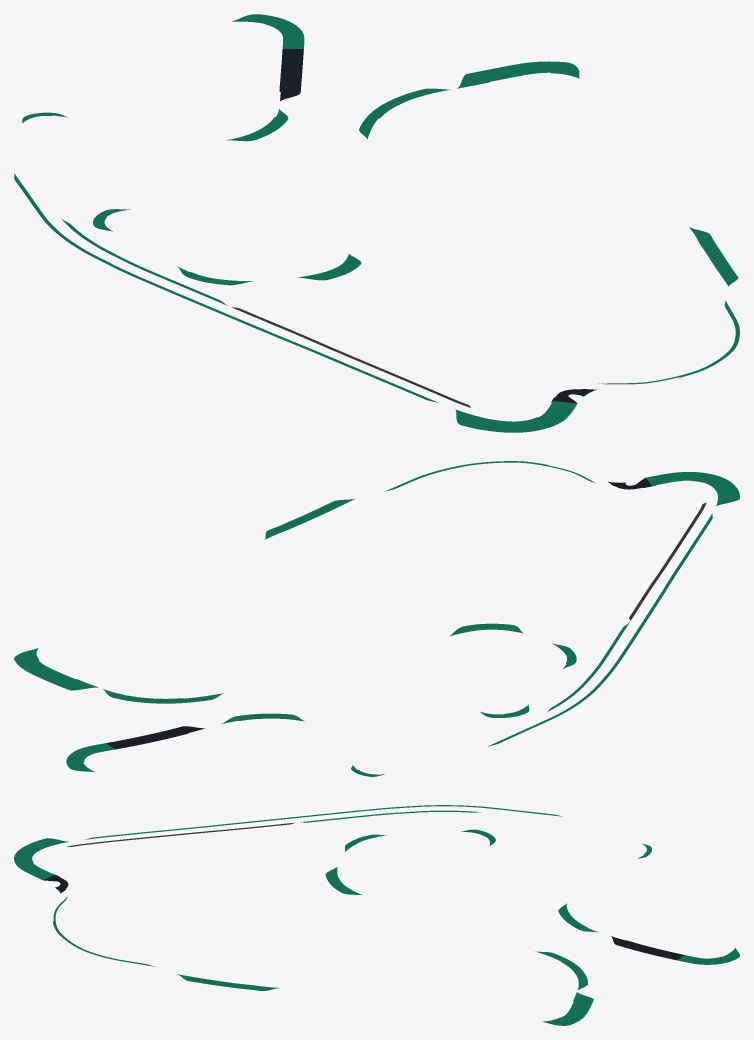
The model's file is runoff_paint.glb.
3 renders of one model, top to bottom at view 1: azimuth 30°, elevation 25°; view 2: azimuth 150°, elevation 25°; view 3: azimuth 270°, elevation 25°, orthographic. The views are drawn at different scales.
Parts seen in each view (by area): view 1: chunk_0_0; view 2: chunk_0_0; view 3: chunk_0_0.
Boxes of the visible parts, left/top/right/bottom form: chunk_0_0: left=14, top=14, right=739, bottom=432; chunk_0_0: left=14, top=461, right=739, bottom=776; chunk_0_0: left=14, top=805, right=739, bottom=1025.
Bounding box in the file's own units: 695 × 42.55 × 1066.
